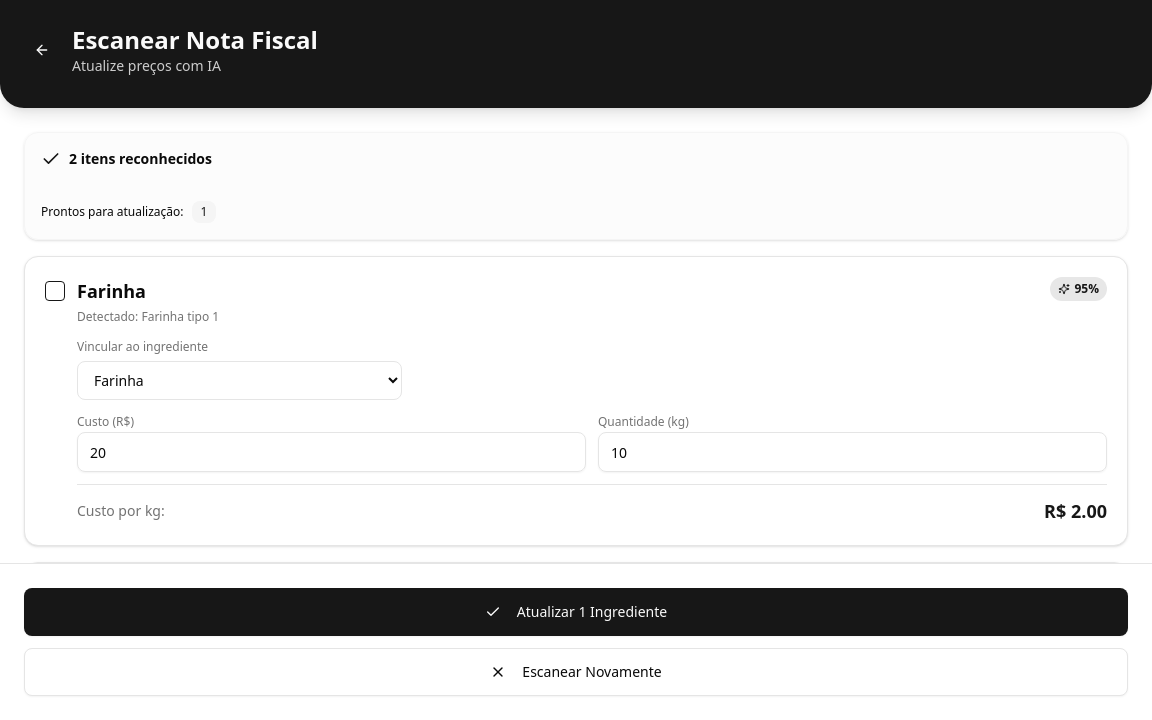
AiScannerScreen › impede selecionar dois itens para o mesmo ingrediente
The image size is (1152, 720).
Earlier steps of the test are not shown.
Expected: the checkbox in the row of "60" is checked, 45,587 -> 65,607
Click the checkbox. click: (55, 291)
box: 45,281 -> 65,301
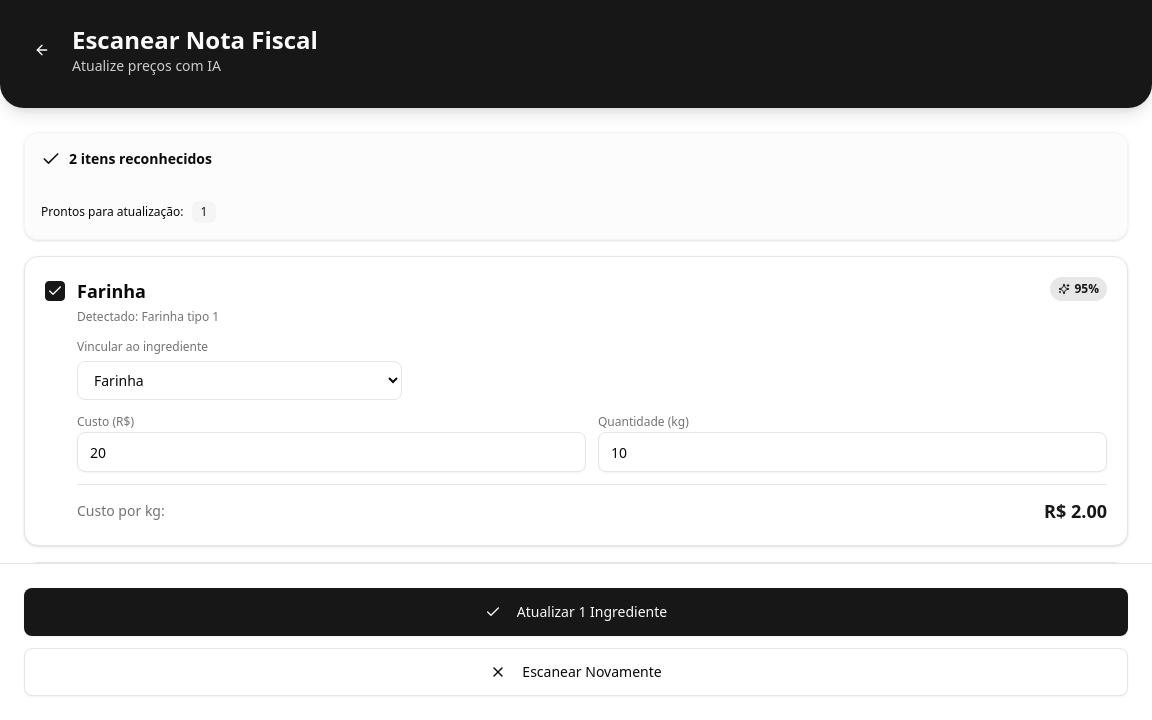
Expected: the checkbox in the row of "60" is not checked, 45,587 -> 65,607
Expected: the checkbox is checked, 45,281 -> 65,301
